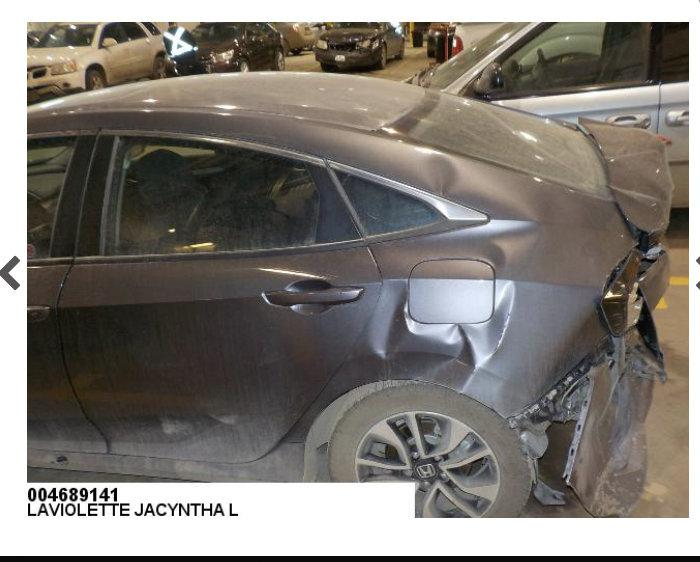quaterpanel-dent: (358, 220, 596, 418)
